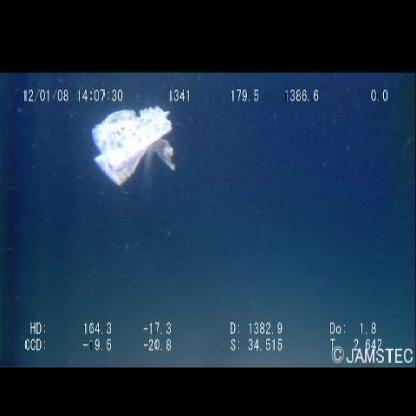Rác: (90, 103, 186, 193)
